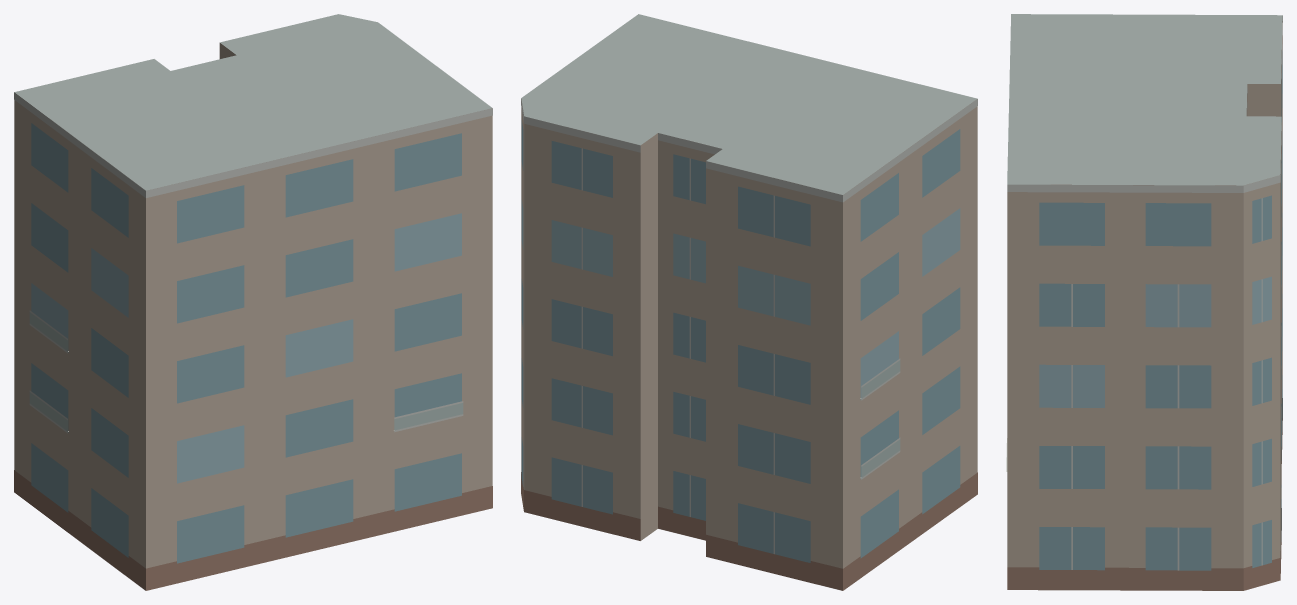
Rendered from survey-upis-32742589.glb.
3 renders of one model, left to right at view 1: azimuth 30°, elevation 25°; view 2: azimuth 150°, elevation 25°; view 3: azimuth 270°, elevation 25°, orthographic. The views are drawn at different scales.
Visible parts, largest first — view 1: survey-upis-32742589.tmp; view 2: survey-upis-32742589.tmp; view 3: survey-upis-32742589.tmp.
Boxes of the visible parts, x1,y1,x2,y2 form: survey-upis-32742589.tmp: [14, 14, 492, 590]; survey-upis-32742589.tmp: [521, 14, 977, 590]; survey-upis-32742589.tmp: [1006, 14, 1282, 590].
Size of the model in its own units: 11.89 by 13.1 by 8.1.
